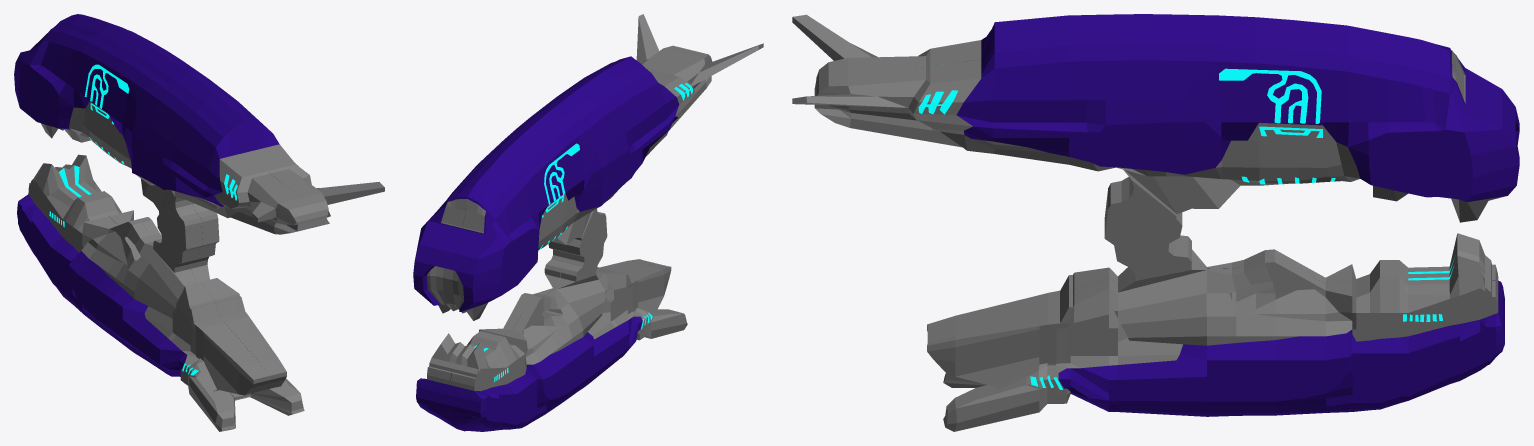
Rendered from rifle de plasma.glb.
The picture shows the model from 3 angles, left to right: view 1: azimuth 30°, elevation 25°; view 2: azimuth 150°, elevation 25°; view 3: azimuth 270°, elevation 25°; orthographic projection. The views are drawn at different scales.
Visible parts, largest first — view 1: Plane; view 2: Plane; view 3: Plane.
Boxes of the visible parts, left/top/right/bottom form: Plane: left=14, top=14, right=384, bottom=431; Plane: left=413, top=14, right=763, bottom=431; Plane: left=792, top=14, right=1519, bottom=431.
Bounding box in the file's own units: 1.15 × 2.61 × 4.33.
